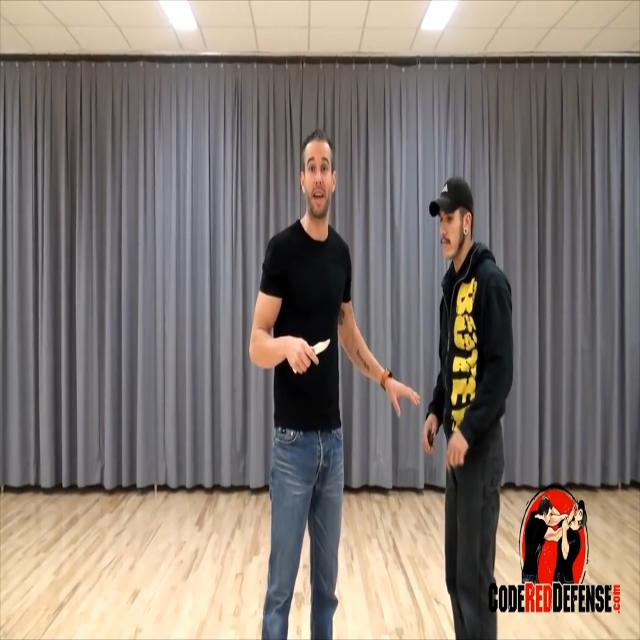knife: (314, 335, 332, 358)
